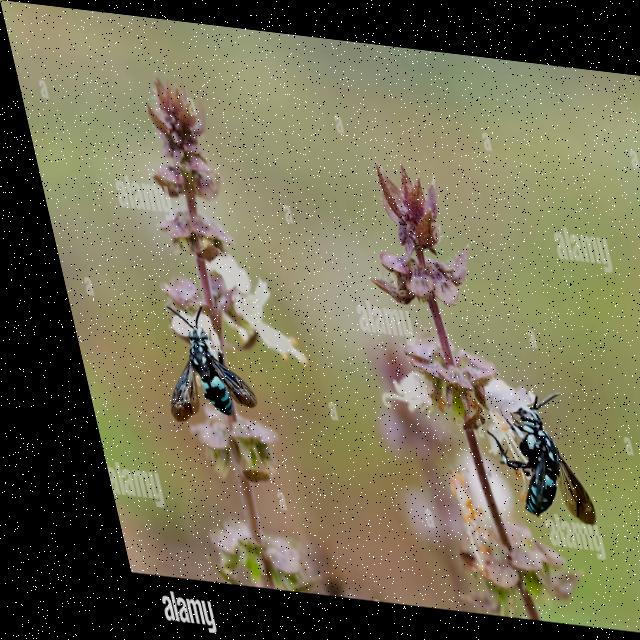Thyreus: (457, 375, 587, 525), (129, 297, 252, 446)
